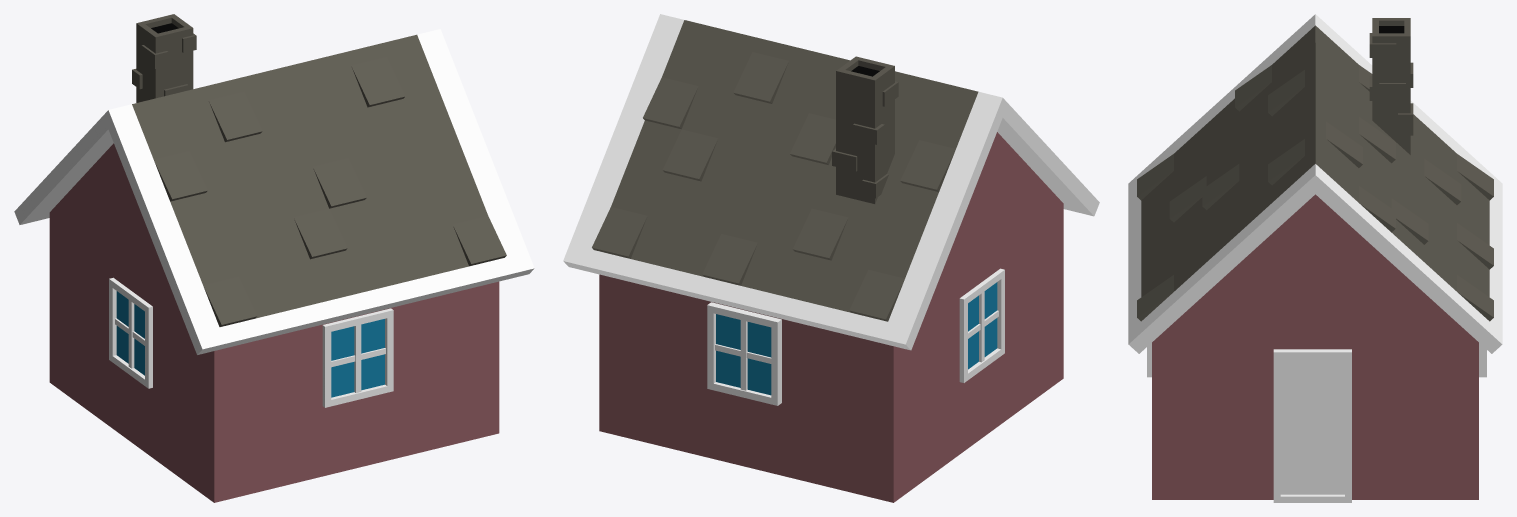
The model's file is CityHouse_04.fbx.
3 renders of one model, left to right at view 1: azimuth 30°, elevation 25°; view 2: azimuth 150°, elevation 25°; view 3: azimuth 270°, elevation 25°, orthographic. The views are drawn at different scales.
Parts seen in each view (by area): view 1: CityHouse_04; view 2: CityHouse_04; view 3: CityHouse_04.
Boxes of the visible parts, x1,y1,x2,y2 form: CityHouse_04: (14,14,534,502); CityHouse_04: (563,14,1099,502); CityHouse_04: (1128,14,1502,502).
Bounding box in the file's own units: 0.6333 × 0.6771 × 0.6216.
